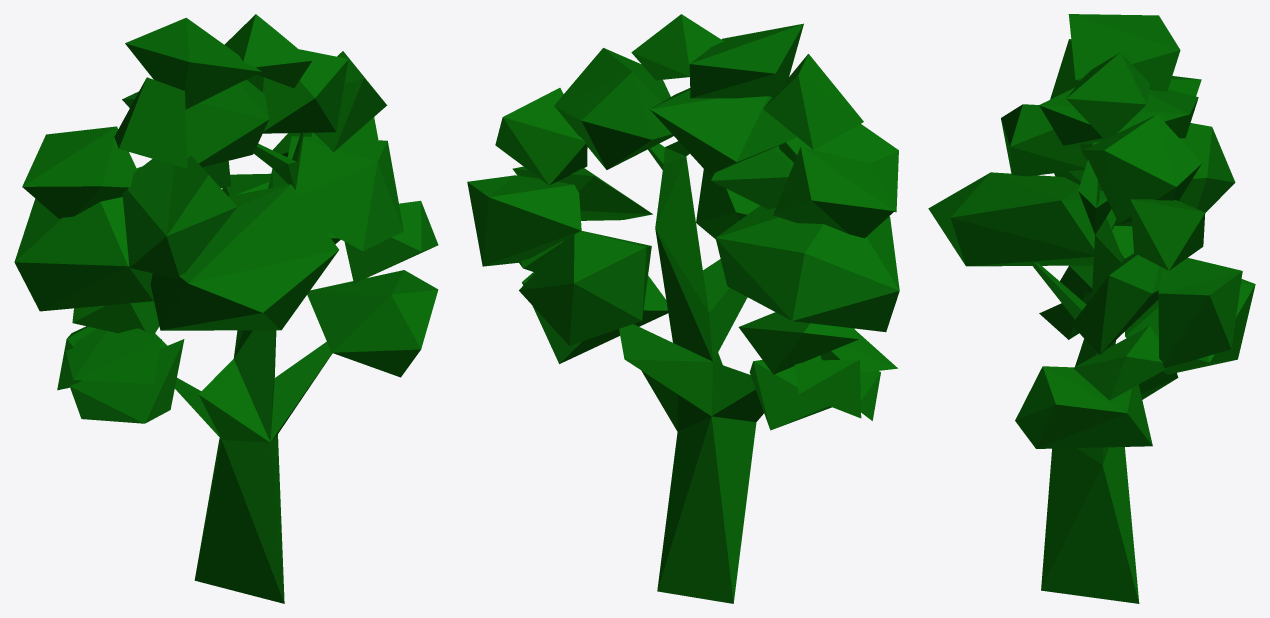
Rendered from Oak_Tree_255face.fbx.
The picture shows the model from 3 angles, left to right: view 1: azimuth 30°, elevation 25°; view 2: azimuth 150°, elevation 25°; view 3: azimuth 270°, elevation 25°; orthographic projection. The views are drawn at different scales.
Parts seen in each view (by area): view 1: Oak; view 2: Oak; view 3: Oak.
Boxes of the visible parts, x1,y1,x2,y2 form: Oak: (14, 14, 438, 603); Oak: (467, 14, 899, 603); Oak: (928, 14, 1255, 603).
Size of the model in its own units: 401 by 530 by 288.
